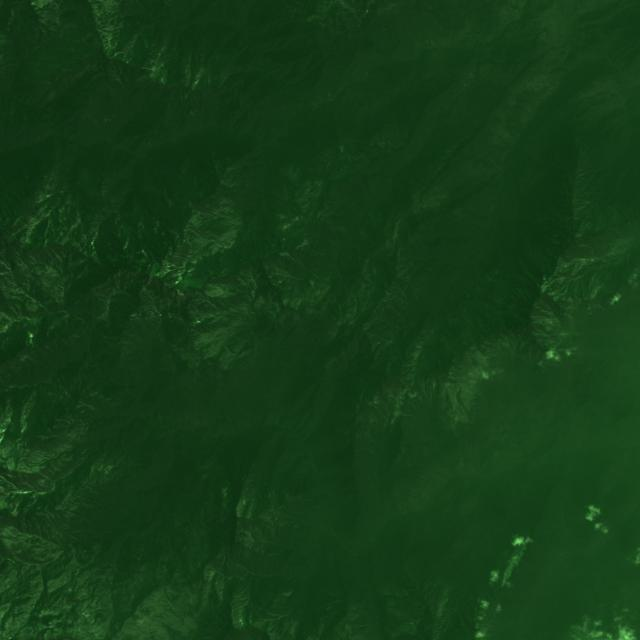landslides: (280, 252, 316, 279), (184, 266, 199, 290), (25, 355, 48, 368), (377, 396, 390, 415), (141, 285, 153, 299), (90, 115, 101, 129), (163, 259, 180, 267), (49, 214, 54, 235), (44, 218, 49, 239), (35, 189, 48, 197)
